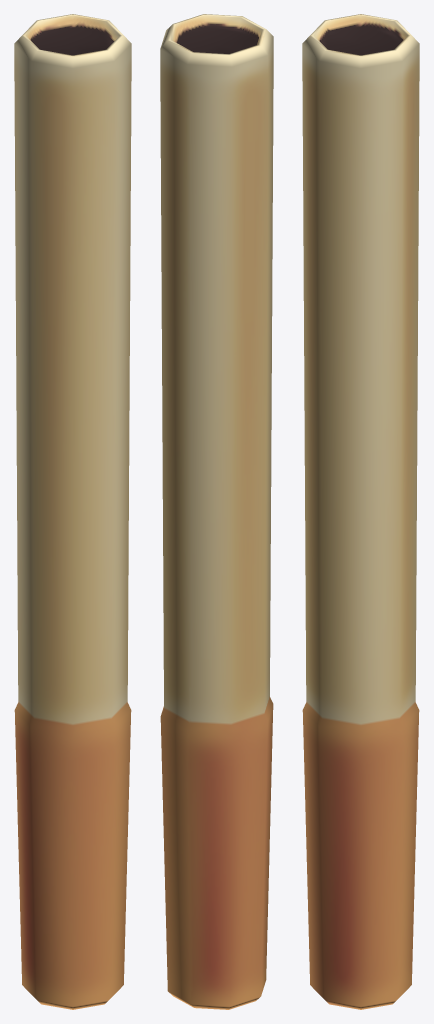
File: Cig_Full.fbx
The picture shows the model from 3 angles, left to right: view 1: azimuth 90°, elevation 25°; view 2: azimuth 150°, elevation 25°; view 3: azimuth 270°, elevation 25°; orthographic projection.
Visible parts, largest first — view 1: Cig_Full; view 2: Cig_Full; view 3: Cig_Full.
Boxes of the visible parts, <box> form: Cig_Full: <box>14,14,131,1009</box>; Cig_Full: <box>160,14,273,1009</box>; Cig_Full: <box>302,14,419,1009</box>.
Bounding box in the file's own units: 125 × 1119 × 125.
